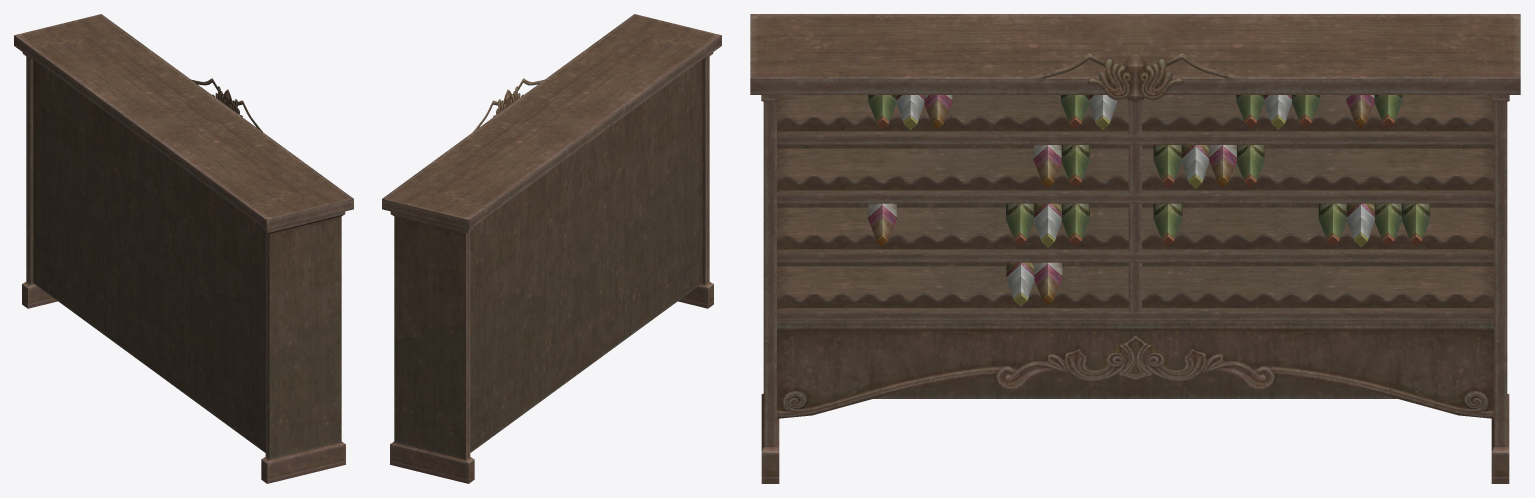
Rendered from bg_lut_lucastle_furniture06_sm_artree.FBX.
3 views of the same model, side by side, from view 1: azimuth 30°, elevation 25°; view 2: azimuth 150°, elevation 25°; view 3: azimuth 270°, elevation 25° (orthographic). The views are drawn at different scales.
Parts seen in each view (by area): view 1: bg_lut_lucastle_furniture06_sm_artree; view 2: bg_lut_lucastle_furniture06_sm_artree; view 3: bg_lut_lucastle_furniture06_sm_artree.
Part boxes in pixels (left/top/right/bottom): bg_lut_lucastle_furniture06_sm_artree: left=14, top=14, right=353, bottom=483; bg_lut_lucastle_furniture06_sm_artree: left=382, top=14, right=721, bottom=483; bg_lut_lucastle_furniture06_sm_artree: left=750, top=14, right=1520, bottom=483.
Bounding box in the file's own units: 68.82 × 213 × 343.
